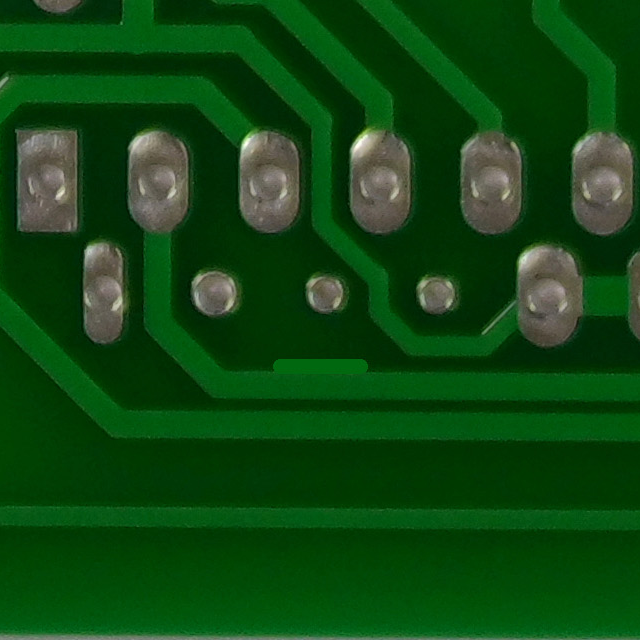spur: (256, 336, 384, 400)
